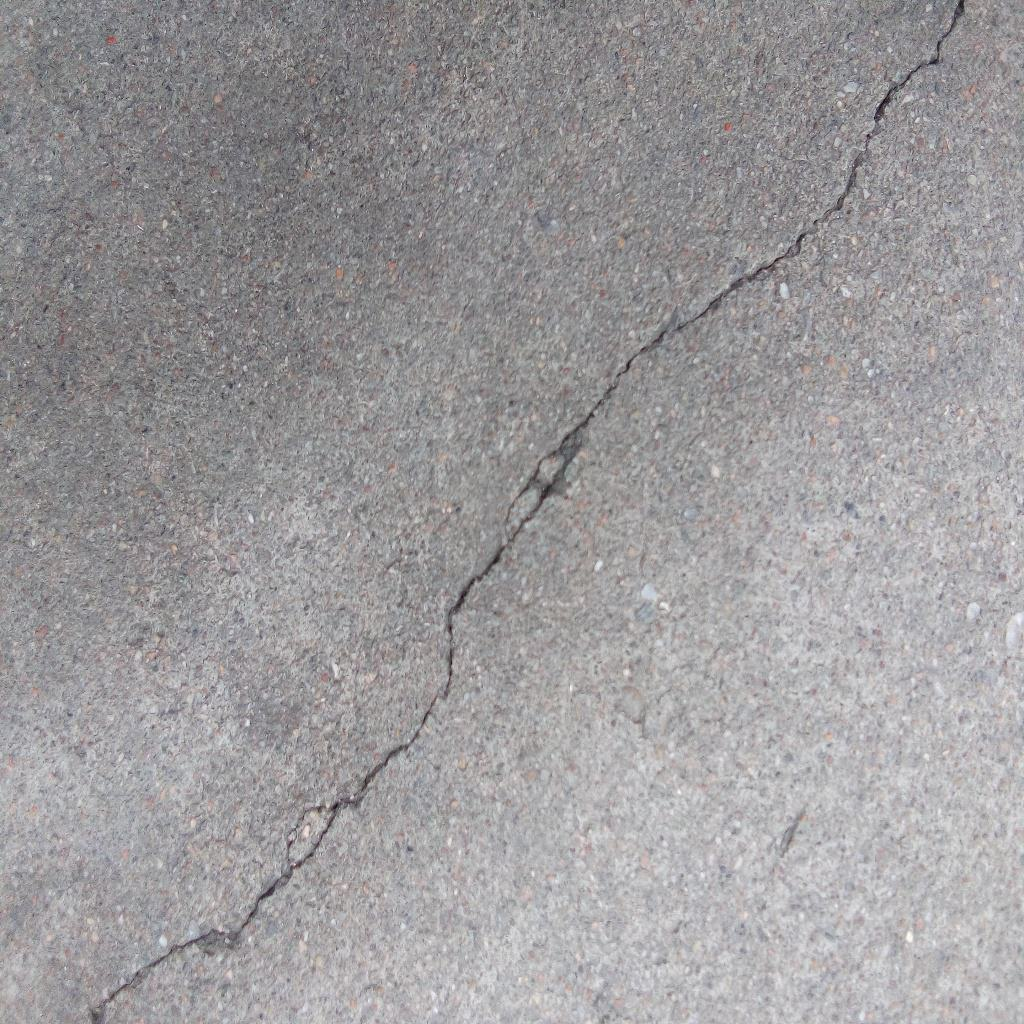Crack: (88, 1, 967, 1024)
